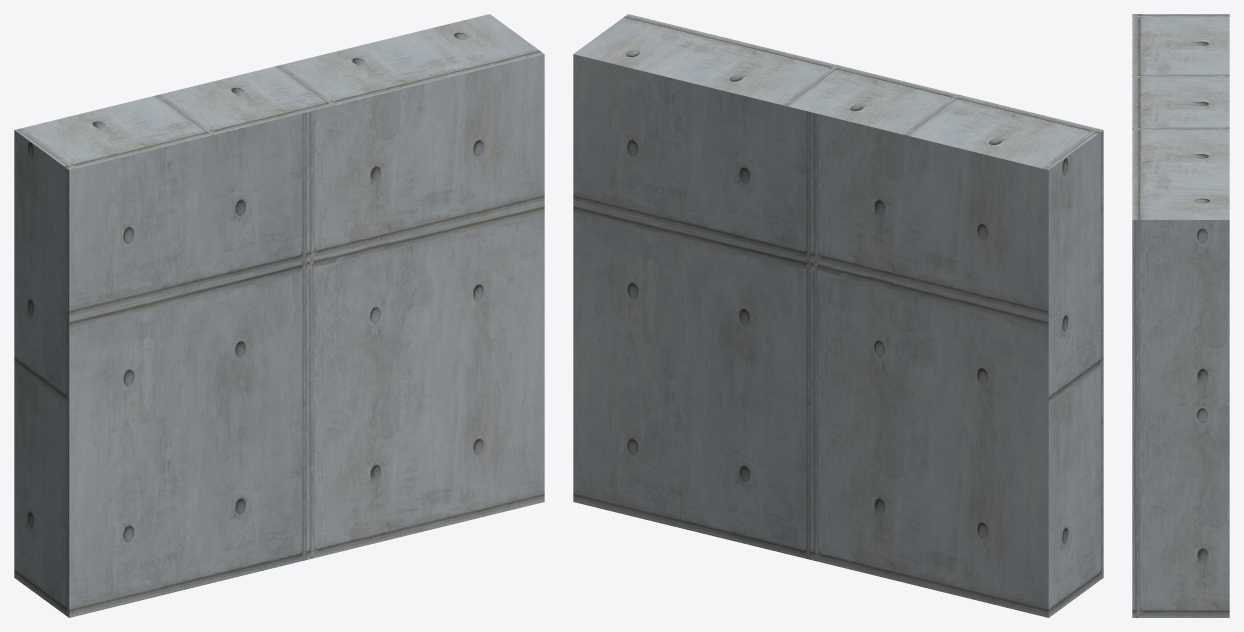
The model's file is FragmentedCover.fbx.
3 renders of one model, left to right at view 1: azimuth 30°, elevation 25°; view 2: azimuth 150°, elevation 25°; view 3: azimuth 270°, elevation 25°, orthographic. The views are drawn at different scales.
Visible parts, largest first — view 1: Group5, Group2, Group4, Group6, Group3; view 2: Group5, Group2, Group4, Group6, Group3; view 3: Group2, Group3, Group6, Group4.
Part boxes in pixels (x1,y1,x2,y2): Group5: (14, 236, 370, 617); Group2: (274, 14, 544, 320); Group4: (153, 66, 457, 377); Group6: (14, 96, 207, 405); Group3: (370, 264, 544, 544); Group5: (747, 236, 1103, 617); Group2: (573, 14, 843, 320); Group4: (660, 66, 964, 377); Group6: (910, 96, 1103, 405); Group3: (573, 264, 747, 544); Group2: (1132, 126, 1229, 406); Group3: (1132, 407, 1229, 617); Group6: (1132, 14, 1229, 73); Group4: (1132, 74, 1229, 126).
Size of the model in its own units: 1 by 0.9 by 0.2.
